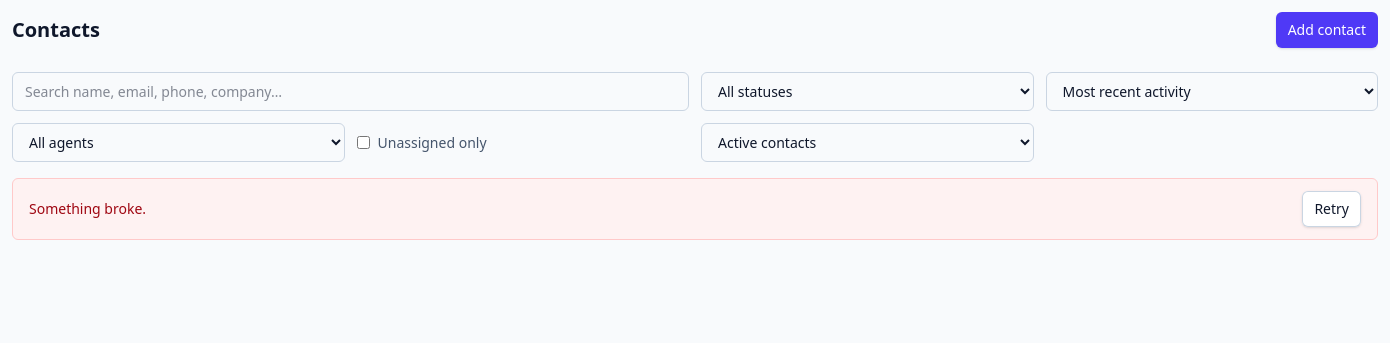
Test: ContactsListPage › shows an error banner with a working retry when the request fails
Expected: the text "Something broke." is shown, x1=29 y1=199 x2=146 y2=219
Click the button "Retry".
click(1332, 209)  # box x1=1302 y1=191 x2=1361 y2=227
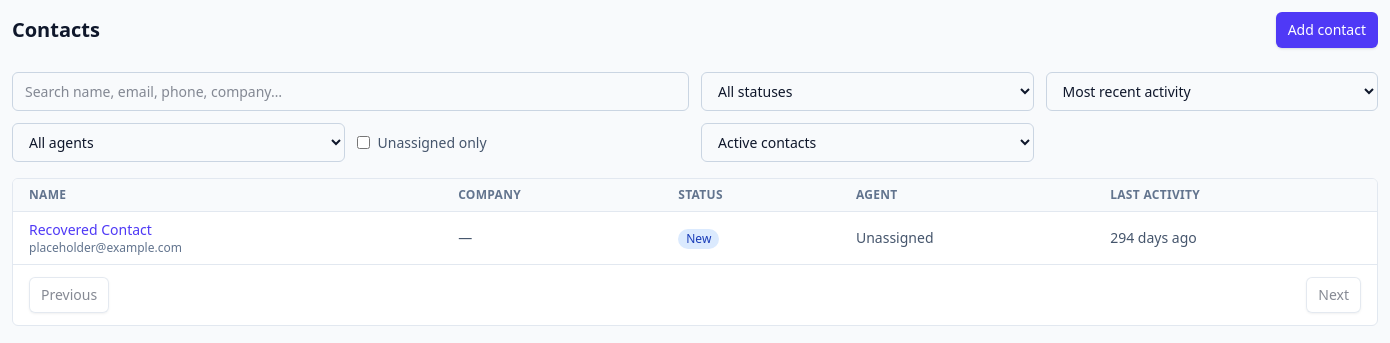
Expected: the link "Recovered Contact" is shown, x1=29 y1=220 x2=152 y2=239
Expected: the text "Something broke." is gone
